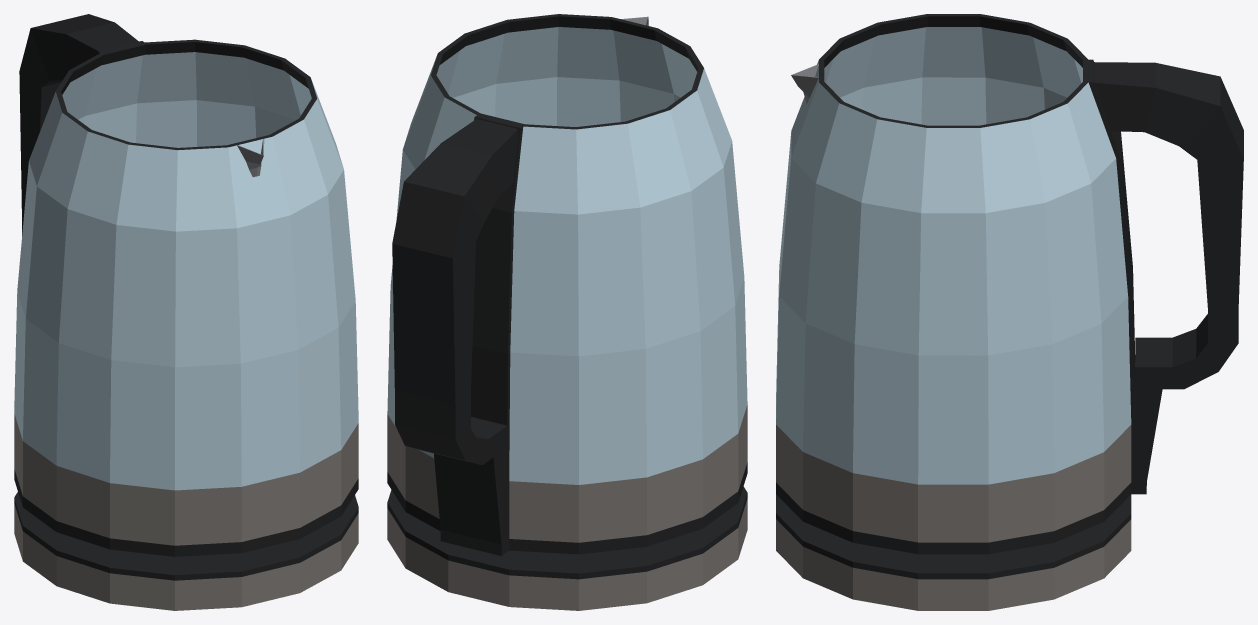
The model's file is kettlemodern_01_A.gltf.
3 renders of one model, left to right at view 1: azimuth 30°, elevation 25°; view 2: azimuth 150°, elevation 25°; view 3: azimuth 270°, elevation 25°, orthographic. The views are drawn at different scales.
Parts seen in each view (by area): view 1: kettlemodern_01_A, Electrickettlemodern_01_A; view 2: kettlemodern_01_A, Electrickettlemodern_01_A; view 3: kettlemodern_01_A, Electrickettlemodern_01_A.
Part boxes in pixels (x1,y1,x2,y2): kettlemodern_01_A: [14, 14, 358, 556]; Electrickettlemodern_01_A: [14, 492, 358, 610]; kettlemodern_01_A: [387, 14, 747, 555]; Electrickettlemodern_01_A: [387, 486, 747, 610]; kettlemodern_01_A: [776, 14, 1243, 554]; Electrickettlemodern_01_A: [776, 494, 1131, 610].
Bounding box in the file's own units: 0.1717 × 0.2485 × 0.2261.
Materials: 1 (1 with a texture image).
